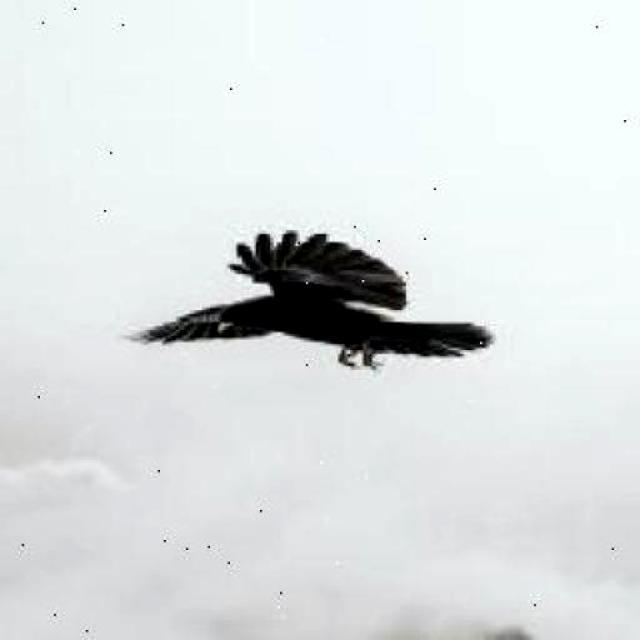airplane: (120, 232, 498, 371)
